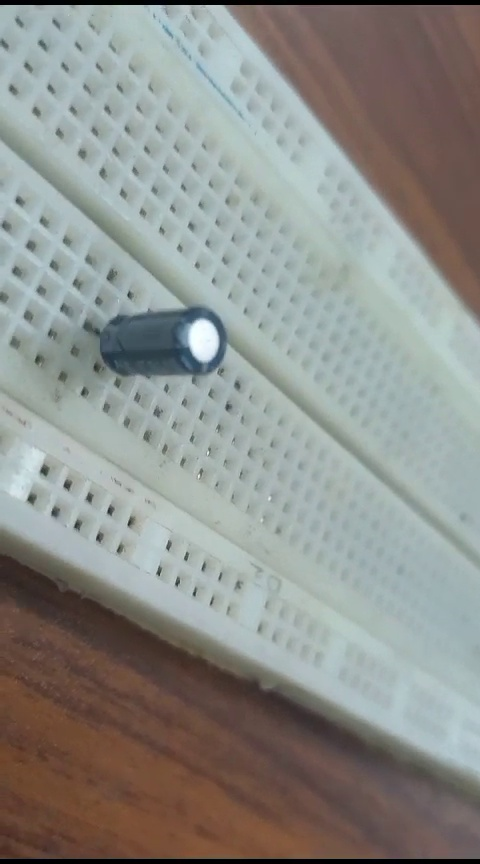capacitor: (76, 293, 231, 392)
